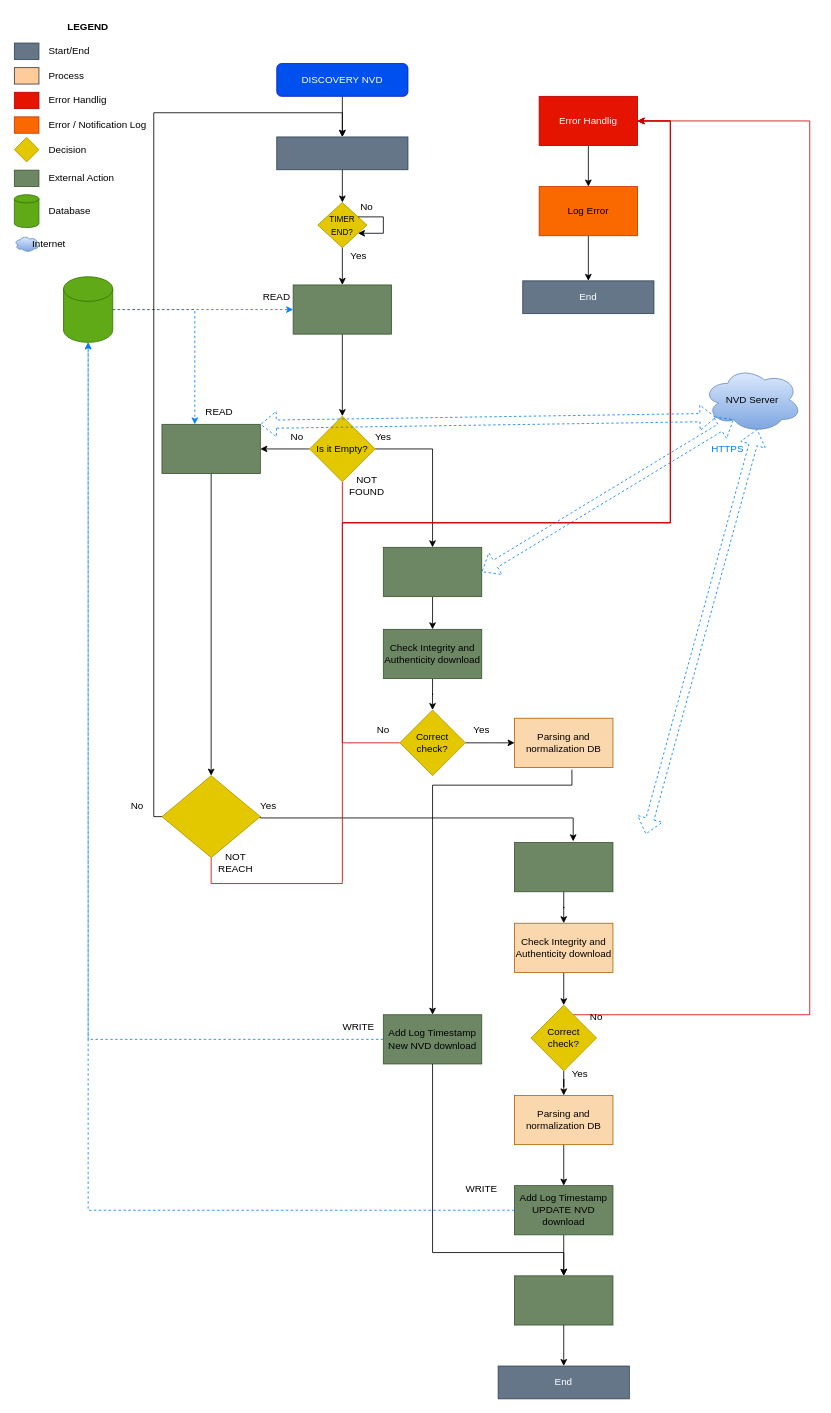
This 831x1413 diagram has some shape labels left out. Here are the shapes that lost their labels. From the top down, the centre of each, then its label:
At point 342,153: "Start".
At point 88,309: "NVD DB".
At point 342,309: "Check Status of DB".
At point 210,449: "Check Actual Version".
At point 432,572: "Download Latest NVD version".
At point 210,816: "Is there a new one?".
At point 563,867: "Dowload Update".
At point 563,1300: "Generate Summary Report".
